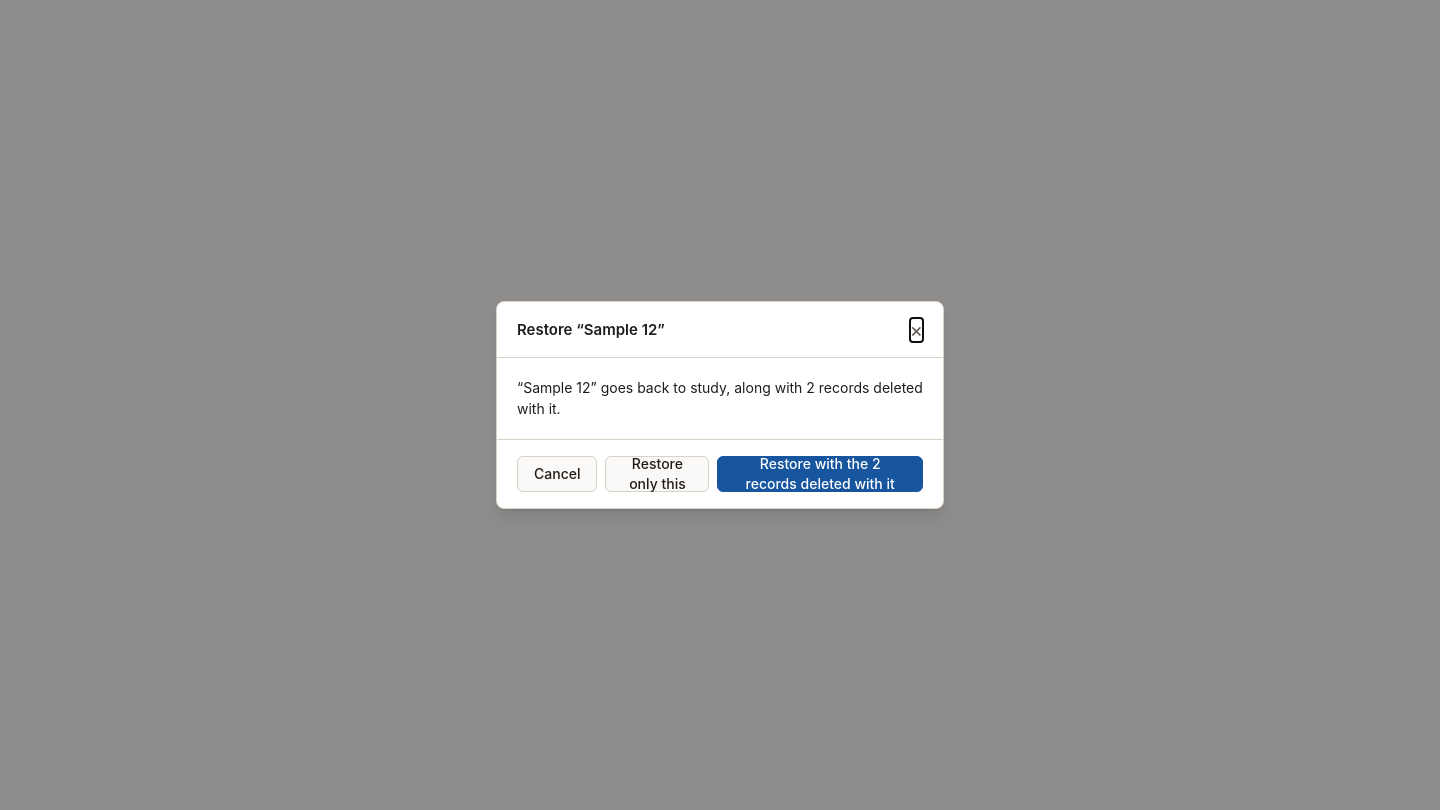
RestoreDialog › says where a record goes, then restores and reports it
This screenshot has width=1440, height=810.
expect the text "goes back to study" shows "along with 2 records deleted with it": met, box [517,379,923,417]
Click the button "Restore with the 2 records deleted with it" at coordinates (820, 474), box [717,456,923,492]
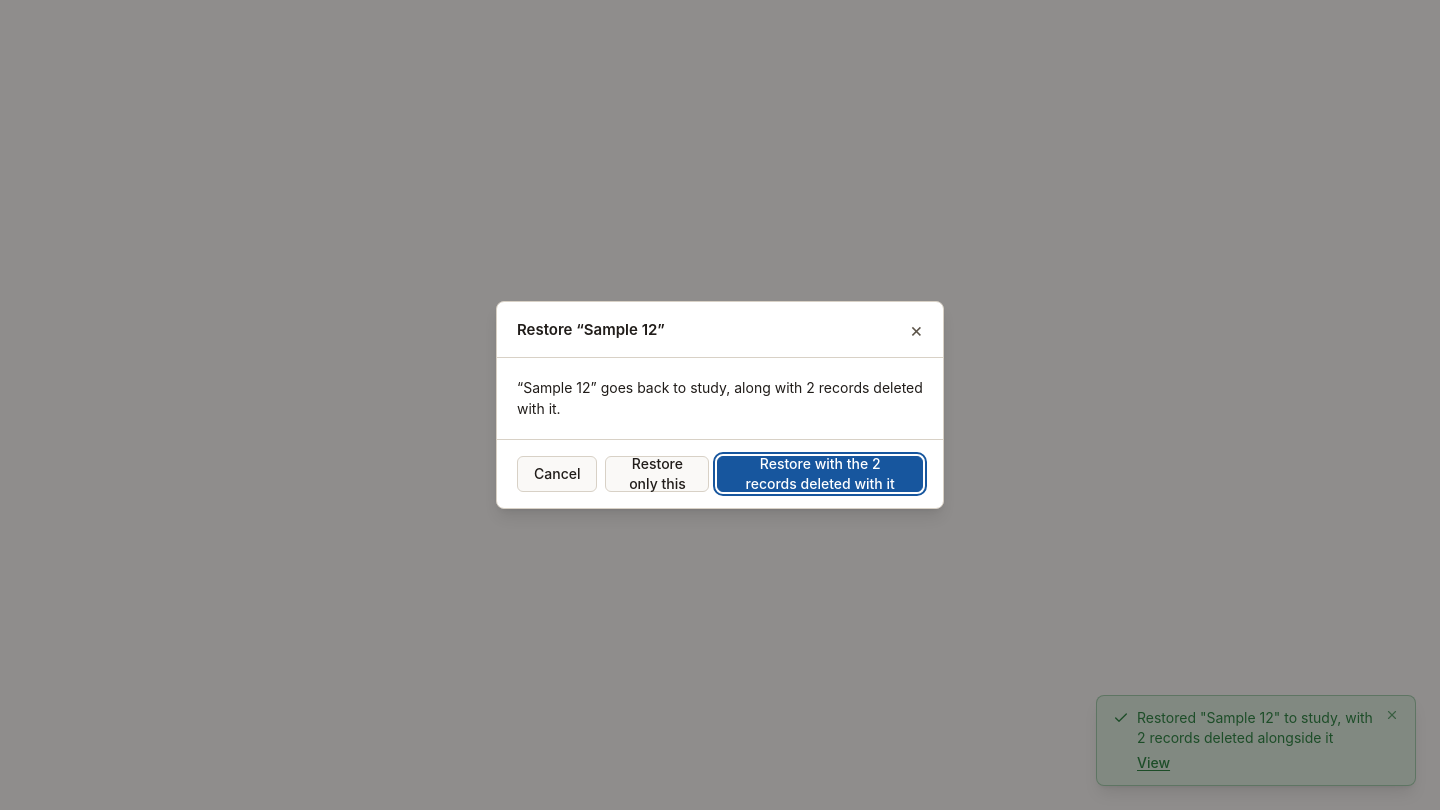
expect the text "Restored \"Sample 12\" to study, with 2 records deleted alongside it" is shown: met, box [1137,708,1377,749]
expect the button "View" is shown: met, box [1137,753,1170,773]
